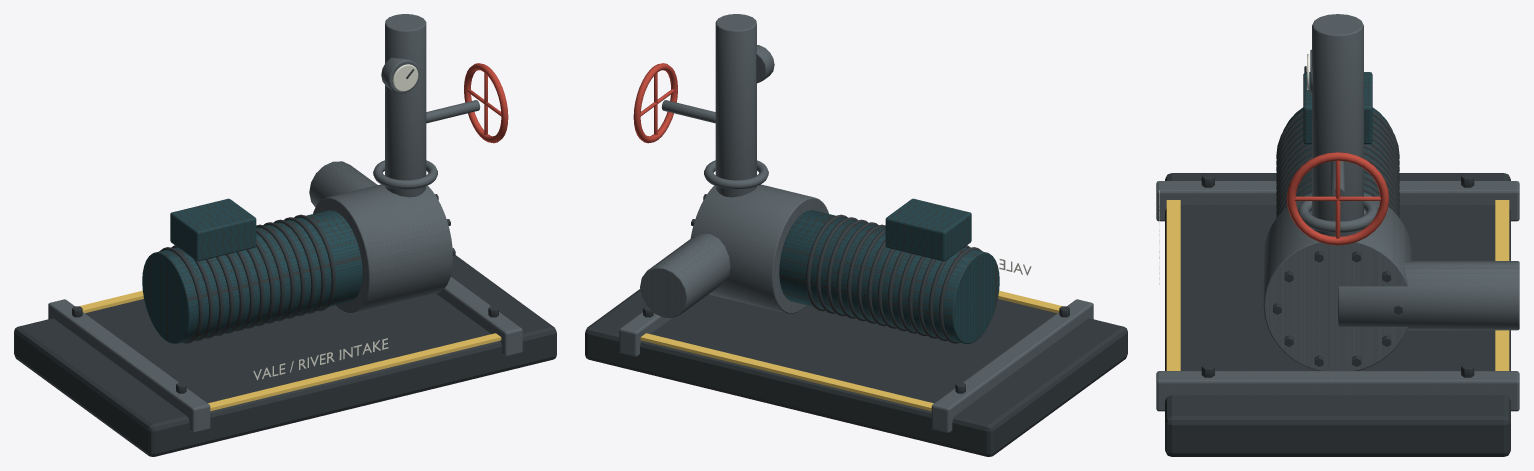
The model's file is FloodgateMachinery.fbx.
3 renders of one model, left to right at view 1: azimuth 30°, elevation 25°; view 2: azimuth 150°, elevation 25°; view 3: azimuth 270°, elevation 25°, orthographic. The views are drawn at different scales.
Parts seen in each view (by area): view 1: CinemaDark_Surface.001__UnityExport, CinemaSteel_Surface.001__UnityExport, RiverMarinePaint_Surface.001__UnityExport, CinemaYellow_Surface__UnityExport, CinemaRed_Surface.001__UnityExport, CinemaCream_Surface.001__UnityExport; view 2: CinemaDark_Surface.001__UnityExport, CinemaSteel_Surface.001__UnityExport, RiverMarinePaint_Surface.001__UnityExport, CinemaYellow_Surface__UnityExport, CinemaRed_Surface.001__UnityExport; view 3: CinemaDark_Surface.001__UnityExport, CinemaSteel_Surface.001__UnityExport, CinemaYellow_Surface__UnityExport, CinemaRed_Surface.001__UnityExport, RiverMarinePaint_Surface.001__UnityExport.
Part boxes in pixels (<box>): CinemaDark_Surface.001__UnityExport: <box>14,69,556,456</box>; CinemaSteel_Surface.001__UnityExport: <box>48,14,522,432</box>; RiverMarinePaint_Surface.001__UnityExport: <box>142,198,362,344</box>; CinemaYellow_Surface__UnityExport: <box>79,290,501,411</box>; CinemaRed_Surface.001__UnityExport: <box>464,63,508,143</box>; CinemaCream_Surface.001__UnityExport: <box>253,64,418,380</box>; CinemaDark_Surface.001__UnityExport: <box>585,194,1127,456</box>; CinemaSteel_Surface.001__UnityExport: <box>619,14,1093,432</box>; RiverMarinePaint_Surface.001__UnityExport: <box>779,198,999,344</box>; CinemaYellow_Surface__UnityExport: <box>640,290,1062,411</box>; CinemaRed_Surface.001__UnityExport: <box>633,63,677,143</box>; CinemaDark_Surface.001__UnityExport: <box>1165,66,1510,456</box>; CinemaSteel_Surface.001__UnityExport: <box>1156,14,1519,411</box>; CinemaYellow_Surface__UnityExport: <box>1166,200,1509,370</box>; CinemaRed_Surface.001__UnityExport: <box>1286,152,1389,245</box>; RiverMarinePaint_Surface.001__UnityExport: <box>1283,72,1392,196</box>.
Size of the model in its own units: 3.4 by 2.45 by 2.1.
